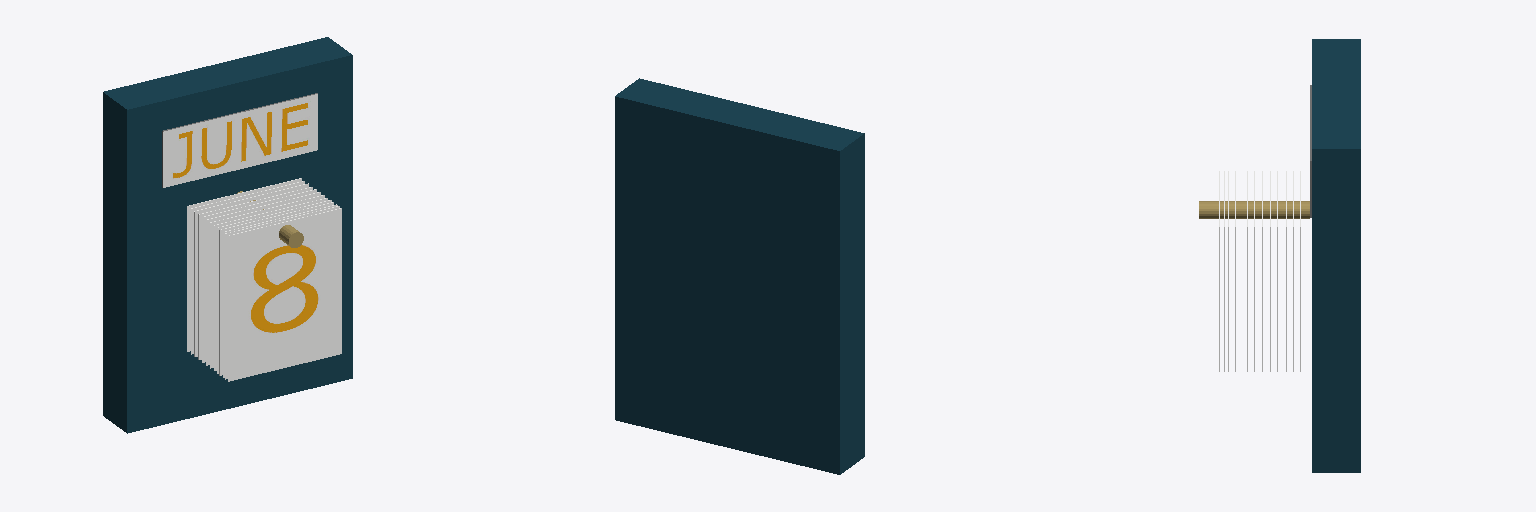
3 renders of one model, left to right at view 1: azimuth 30°, elevation 25°; view 2: azimuth 150°, elevation 25°; view 3: azimuth 270°, elevation 25°, orthographic.
Visible parts, largest first — view 1: Calendar:pasted__pCube4; view 2: Calendar:pasted__pCube4; view 3: Calendar:pasted__pCube4.
Boxes of the visible parts, x1=… form: Calendar:pasted__pCube4: x1=103, y1=37, x2=352, y2=433; Calendar:pasted__pCube4: x1=615, y1=78, x2=864, y2=474; Calendar:pasted__pCube4: x1=1199, y1=39, x2=1360, y2=472.
Bounding box in the file's own units: 1.06 × 1.45 × 0.659.
17 materials, 5 textured.